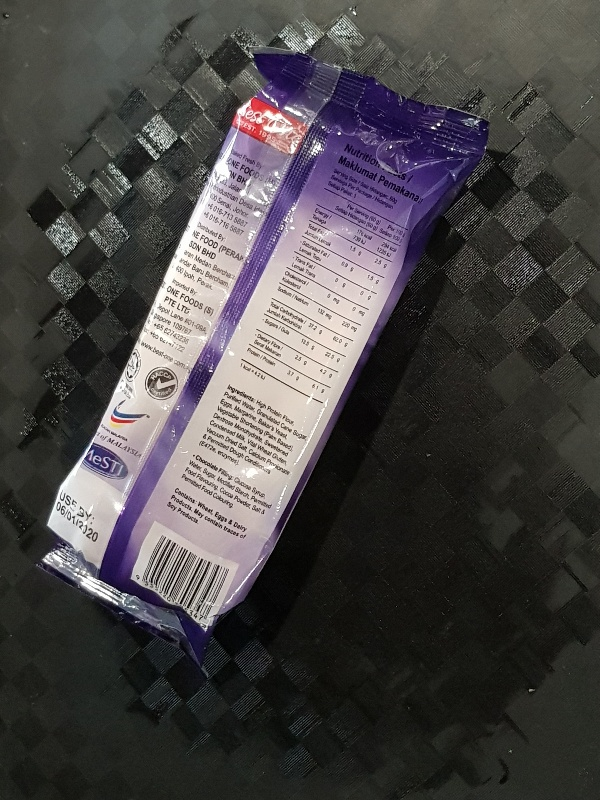Tinges Roll Chocolate: (34, 47, 491, 667)
